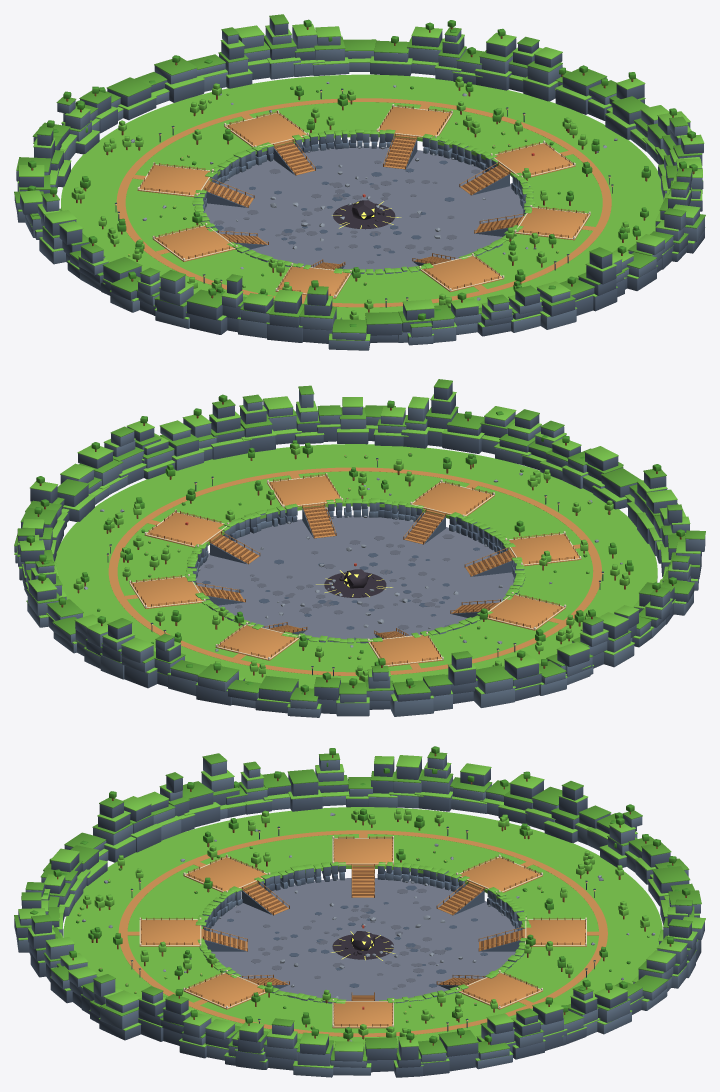
The model's file is SF_Map.fbx.
3 renders of one model, top to bottom at view 1: azimuth 30°, elevation 25°; view 2: azimuth 150°, elevation 25°; view 3: azimuth 270°, elevation 25°, orthographic.
Visible parts, largest first — view 1: Map__Floor__Floor, Map__Grass2__Grass, Map__Grass3__Grass, Map__Grass1__Grass, Map__Grass4__Grass, Map__Grass8__Grass, Map__Mesa6__SlateDark, Map__Grass5__Grass, Map__Mesa2__Slate, Map__Grass7__Grass, Map__Mesa7__SlateDark, Map__Mesa7__Slate (+57 smaller); view 2: Map__Floor__Floor, Map__Grass8__Grass, Map__Grass7__Grass, Map__Grass6__Grass, Map__Grass1__Grass, Map__Grass2__Grass, Map__Grass5__Grass, Map__Mesa8__SlateDark, Map__Grass3__Grass, Map__Mesa4__Slate, Map__Mesa3__Slate, Map__Mesa7__SlateDark (+52 smaller); view 3: Map__Floor__Floor, Map__Grass5__Grass, Map__Grass4__Grass, Map__Grass6__Grass, Map__Grass3__Grass, Map__Grass7__Grass, Map__Mesa1__SlateDark, Map__Mesa6__SlateDark, Map__Grass2__Grass, Map__Mesa8__SlateDark, Map__Grass8__Grass, Map__Mesa4__SlateDark (+57 smaller).
Boxes of the visible parts, x1,y1,x2,y2 form: Map__Floor__Floor: [204, 146, 523, 271]; Map__Grass2__Grass: [325, 74, 547, 149]; Map__Grass3__Grass: [125, 76, 342, 161]; Map__Grass1__Grass: [464, 101, 660, 193]; Map__Grass4__Grass: [61, 126, 231, 218]; Map__Grass8__Grass: [500, 186, 663, 273]; Map__Mesa6__SlateDark: [157, 278, 434, 343]; Map__Grass5__Grass: [76, 212, 259, 293]; Map__Mesa2__Slate: [313, 30, 562, 84]; Map__Grass7__Grass: [386, 247, 582, 311]; Map__Mesa7__SlateDark: [451, 253, 627, 336]; Map__Mesa7__Slate: [407, 256, 633, 345]; Map__Floor__Floor: [196, 515, 514, 639]; Map__Grass8__Grass: [175, 444, 394, 518]; Map__Grass7__Grass: [378, 446, 593, 530]; Map__Grass6__Grass: [491, 494, 657, 587]; Map__Grass1__Grass: [56, 473, 249, 562]; Map__Grass2__Grass: [55, 555, 219, 640]; Map__Grass5__Grass: [459, 581, 642, 663]; Map__Mesa8__SlateDark: [144, 404, 377, 479]; Map__Grass3__Grass: [144, 616, 333, 688]; Map__Mesa4__Slate: [336, 659, 590, 716]; Map__Mesa3__Slate: [84, 628, 321, 717]; Map__Mesa7__SlateDark: [374, 382, 580, 470]; Map__Floor__Floor: [209, 878, 517, 1000]; Map__Grass5__Grass: [249, 807, 477, 873]; Map__Grass4__Grass: [429, 816, 639, 906]; Map__Grass6__Grass: [89, 816, 296, 906]; Map__Grass3__Grass: [517, 885, 662, 980]; Map__Grass7__Grass: [63, 885, 206, 977]; Map__Mesa1__SlateDark: [235, 1026, 478, 1077]; Map__Mesa6__SlateDark: [51, 776, 239, 885]; Map__Grass2__Grass: [427, 960, 633, 1038]; Map__Mesa8__SlateDark: [50, 978, 268, 1069]; Map__Grass8__Grass: [115, 961, 298, 1031]; Map__Mesa4__SlateDark: [460, 769, 670, 884].
Bounding box in the file's own units: 619 × 73.51 × 628.
